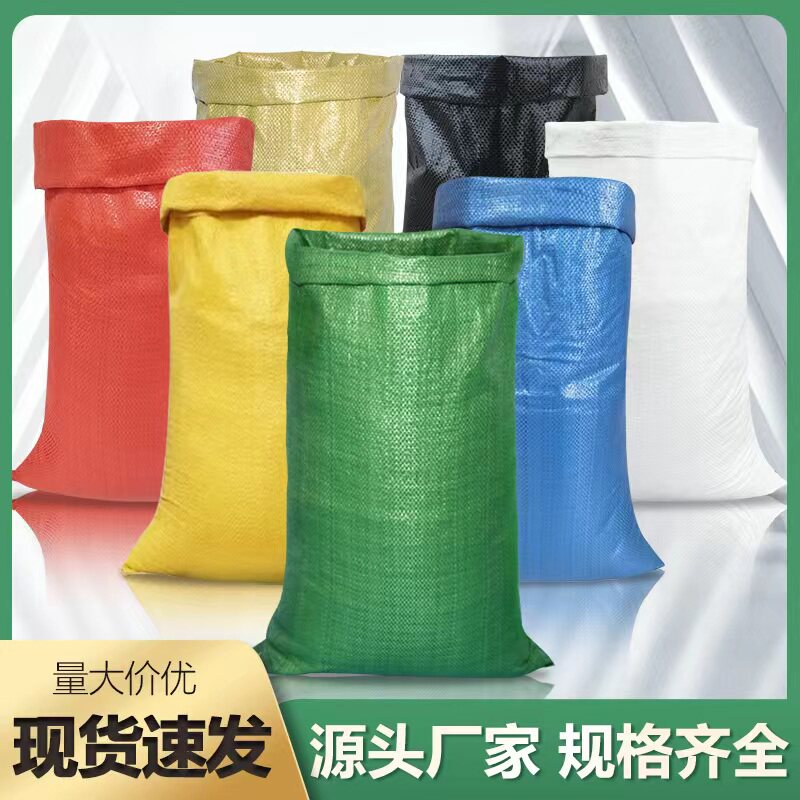Parcel: (257, 230, 550, 676), (125, 172, 364, 582), (434, 178, 662, 582), (13, 118, 252, 502), (546, 122, 784, 503), (192, 52, 403, 231), (400, 55, 607, 232)
